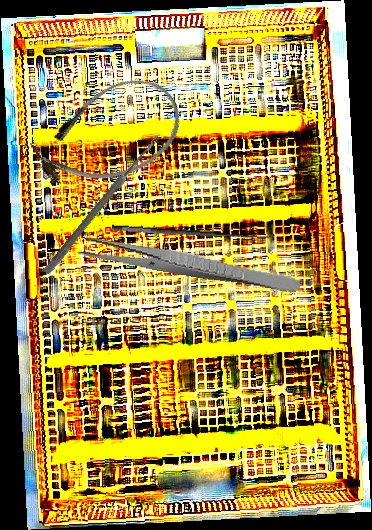Cannula: (21, 64, 195, 206)
Dressing Forceps: (76, 233, 303, 296)
Hook Surgical: (111, 212, 275, 244)
Surgical Spoon: (43, 133, 161, 276)
